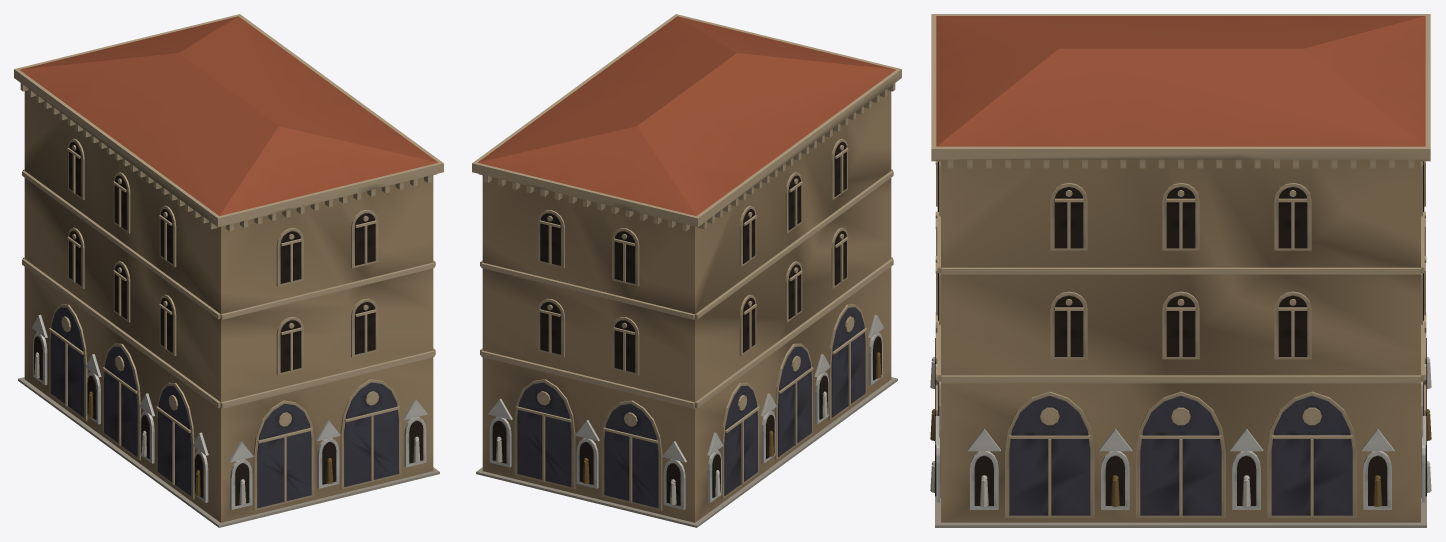
File: orsanmichele.glb
3 views of the same model, side by side, from view 1: azimuth 30°, elevation 25°; view 2: azimuth 150°, elevation 25°; view 3: azimuth 270°, elevation 25° (orthographic). The views are drawn at different scales.
Parts seen in each view (by area): view 1: p0_walls, p1_roof; view 2: p0_walls, p1_roof; view 3: p0_walls, p1_roof.
Boxes of the visible parts, x1=… form: p0_walls: x1=18, y1=90, x2=439, y2=527; p1_roof: x1=14, y1=14, x2=443, y2=231; p0_walls: x1=476, y1=90, x2=897, y2=527; p1_roof: x1=472, y1=14, x2=901, y2=231; p0_walls: x1=930, y1=159, x2=1431, y2=527; p1_roof: x1=931, y1=14, x2=1430, y2=168.
Size of the model in its own units: 26.78 by 38.02 by 41.78.
